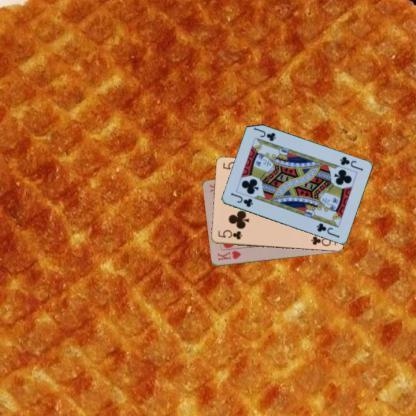5c: (216, 228, 243, 242)
Jc: (228, 190, 254, 209), (337, 154, 364, 172)
Kh: (215, 248, 242, 262)
